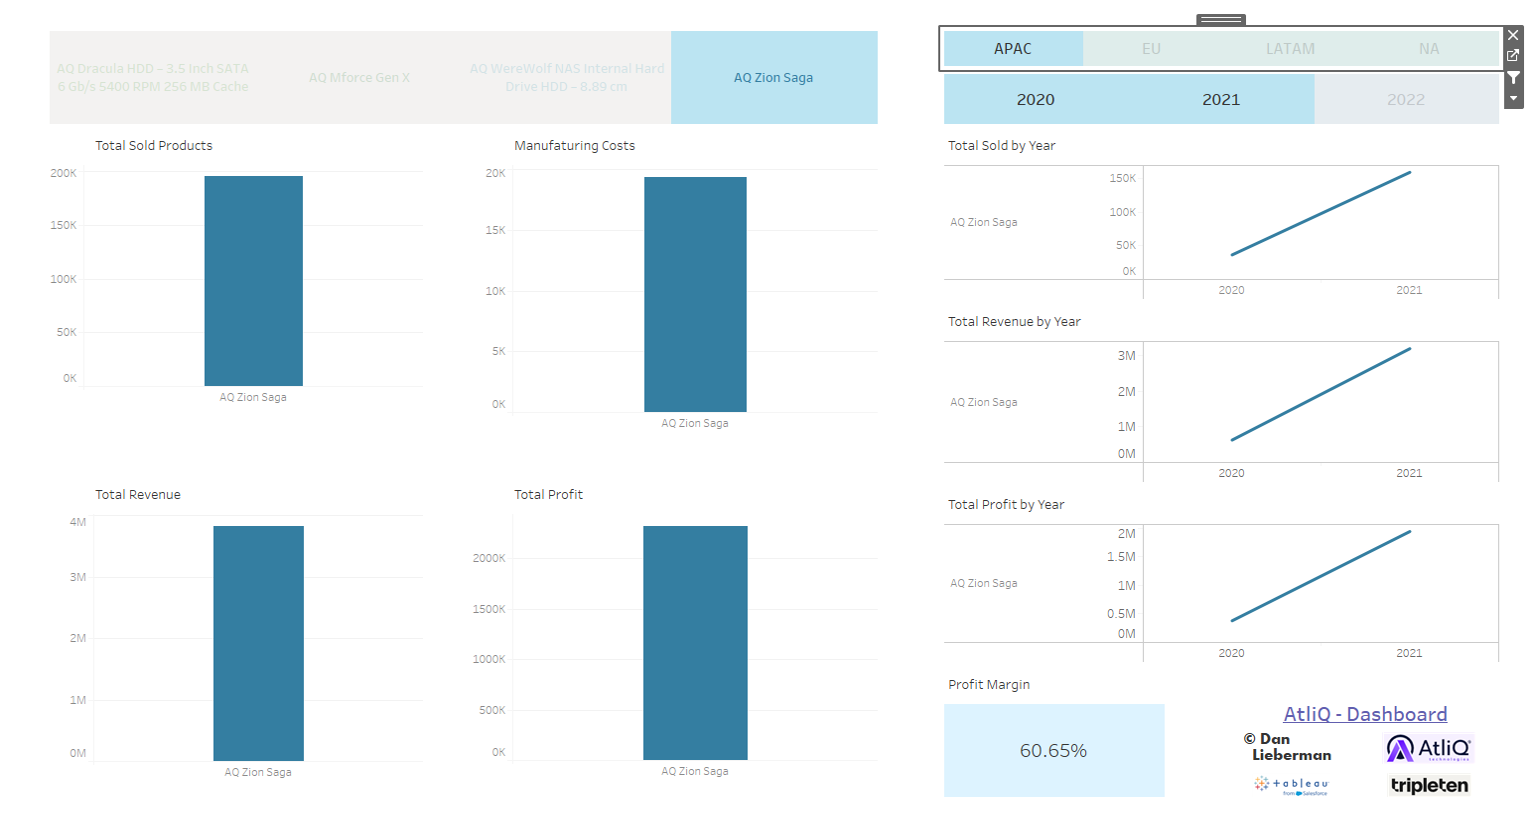

The page's visual inventory and layout, read from the dashboard file:
{"tool":"tableau","page":{"name":"AtliQ","canvas":[1000,1000],"units":"permille","ordinal":0},"visuals":[{"type":"worksheet","title":"Product Selector","mark":"Text","cols":["product"],"box":[37.1,46.5,527.1,118.5]},{"type":"worksheet","title":"Region Selector","mark":"Automatic","cols":["region"],"box":[601.2,46.5,354.9,50.5]},{"type":"worksheet","title":"Year Selector","mark":"Text","cols":["Calculation_1374723793267953671"],"box":[601.2,97,354.9,68.1]},{"type":"worksheet","title":"Total Sold Products","mark":"Automatic","rows":["Calculation_1374723793331413002"],"cols":["product"],"box":[37.1,165.1,240.4,352.3]},{"type":"worksheet","title":"Manufaturing Costs","mark":"Bar","rows":["manufacturing_cost"],"cols":["product"],"box":[301.4,165.1,263.1,359.2]},{"type":"worksheet","title":"Total Sold by Year","mark":"Line","rows":["product","Calculation_1374723793331413002"],"cols":["Calculation_1374723793267953671"],"box":[601.2,165.1,354.9,205.2]},{"type":"worksheet","title":"Total Revenue by Year","mark":"Line","rows":["product","Calculation_1374723793339113483"],"cols":["Calculation_1374723793267953671"],"box":[601.2,370.2,354.9,213.7]},{"type":"worksheet","title":"Total Revenue","mark":"Automatic","rows":["Calculation_1374723793339113483"],"cols":["product"],"box":[37.1,571.9,240.4,378.8]},{"type":"worksheet","title":"Total Profit","mark":"Bar","rows":["Calculation_1374723793340153868"],"cols":["product"],"box":[301.4,572.2,263.1,378.5]},{"type":"worksheet","title":"Total Profit by Year","mark":"Line","rows":["product","Calculation_1374723793340153868"],"cols":["Calculation_1374723793267953671"],"box":[601.2,584,354.9,210.3]},{"type":"worksheet","title":"Profit Margin","mark":"Automatic","box":[601.2,794.3,144,156.4]},{"type":"text","box":[782.5,831.8,173.7,34.3]},{"type":"text","box":[782.5,866.1,80.2,47.1]},{"type":"image","param":"Image/AtliQ_logo_01.png","box":[862.6,866.1,93.5,47.1]},{"type":"image","param":"Image/tablue_01.png","box":[782.5,913.2,80.2,37.5]},{"type":"image","param":"Image/tripleten.png","box":[862.6,913.2,93.5,37.5]}]}

Visuals, with their boxes on the dashboard's canvas, which has no fixed pixel size, in thousandths of its width and height (x1, y1, x2, y2). These are canvas units, not pixel positions in the 1531x835 screenshot, which may show the page scaled, cropped or inside an application window:
"Product Selector" worksheet (Text marks): <region>37, 46, 564, 165</region>
"Region Selector" worksheet: <region>601, 46, 956, 97</region>
"Year Selector" worksheet (Text marks): <region>601, 97, 956, 165</region>
"Total Sold Products" worksheet: <region>37, 165, 278, 517</region>
"Manufaturing Costs" worksheet (Bar marks): <region>301, 165, 564, 524</region>
"Total Sold by Year" worksheet (Line marks): <region>601, 165, 956, 370</region>
"Total Revenue by Year" worksheet (Line marks): <region>601, 370, 956, 584</region>
"Total Revenue" worksheet: <region>37, 572, 278, 951</region>
"Total Profit" worksheet (Bar marks): <region>301, 572, 564, 951</region>
"Total Profit by Year" worksheet (Line marks): <region>601, 584, 956, 794</region>
"Profit Margin" worksheet: <region>601, 794, 745, 951</region>
text: <region>782, 832, 956, 866</region>
text: <region>782, 866, 863, 913</region>
image: <region>863, 866, 956, 913</region>
image: <region>782, 913, 863, 951</region>
image: <region>863, 913, 956, 951</region>
